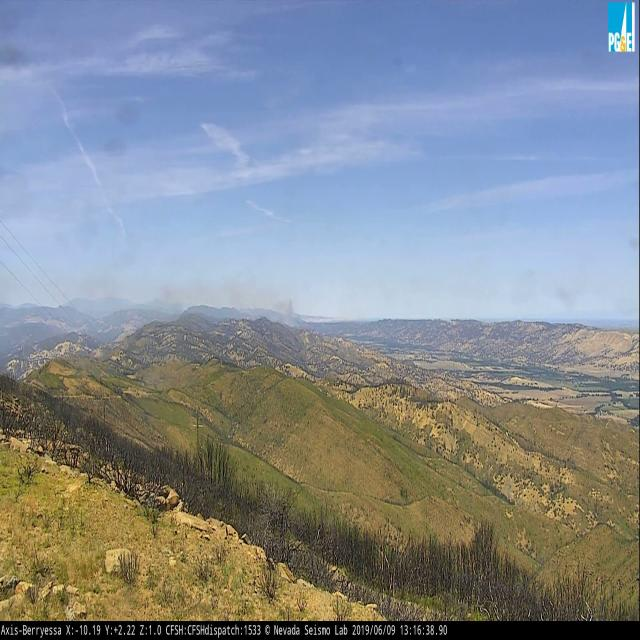smoke: (280, 293, 308, 332)
